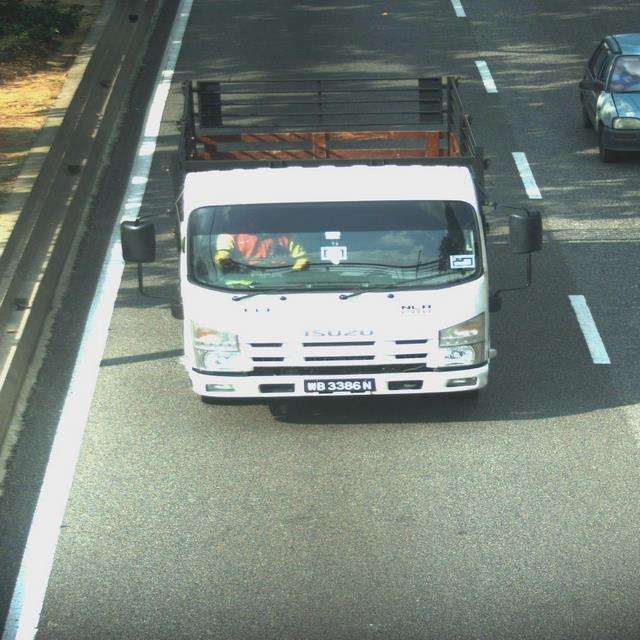License_Plate: (299, 374, 388, 400)
car: (114, 60, 565, 418)
